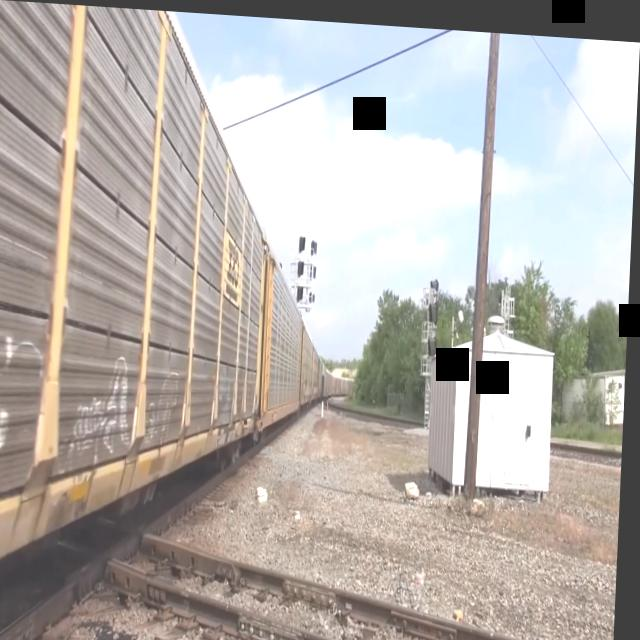autorack: (0, 0, 277, 606), (261, 238, 308, 448)
